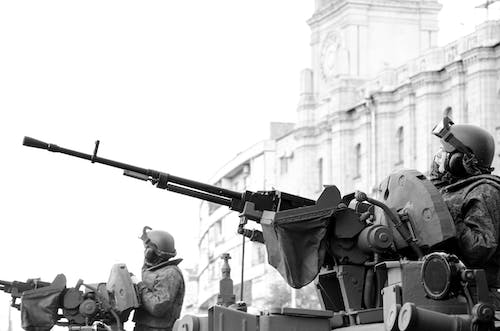gun: (15, 133, 371, 255), (0, 261, 141, 331)
